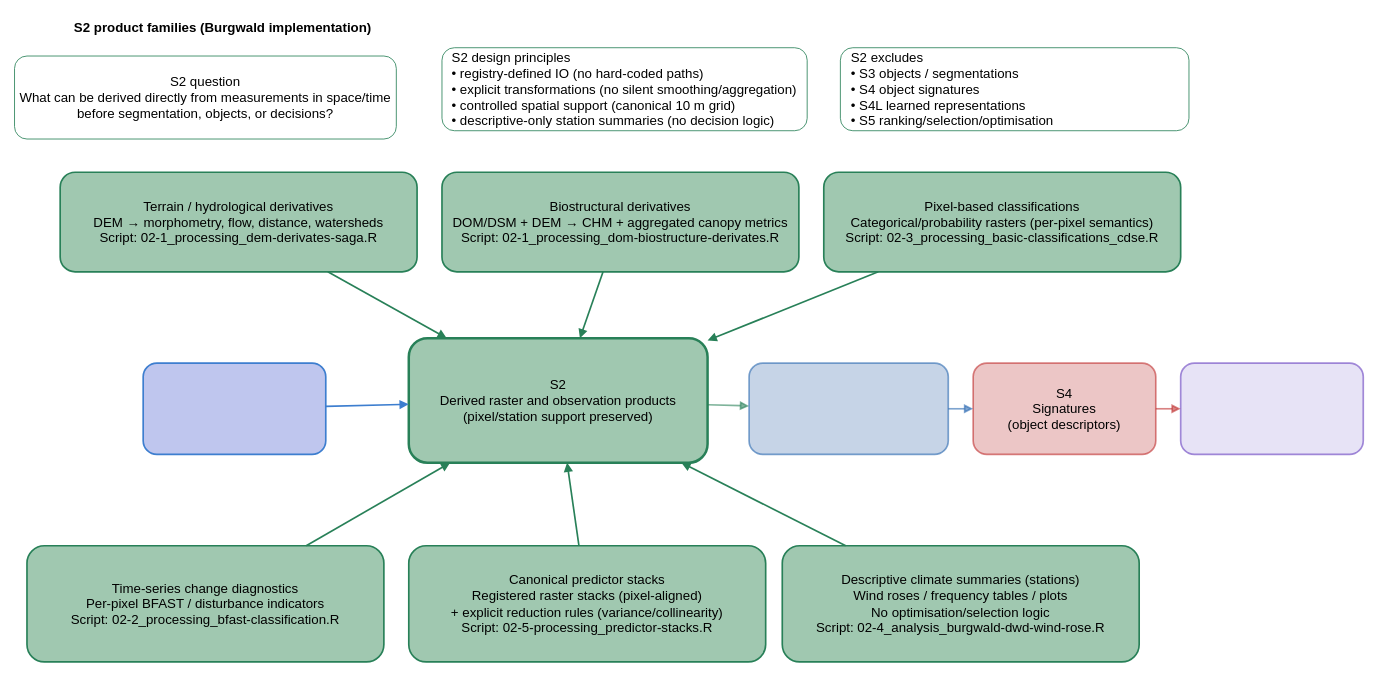
Image size: 1379x676. Some labels were removed from this diagram. Here are the shapes that lost their labels. From the top down, the centre of each, then its label:
At (234,408): "S1 Observations (measurements)".
At (848,408): "S3 Segmentation / objects (spatial units)".
At (1271,408): "S5 Decision logic (ranking/selection)".
